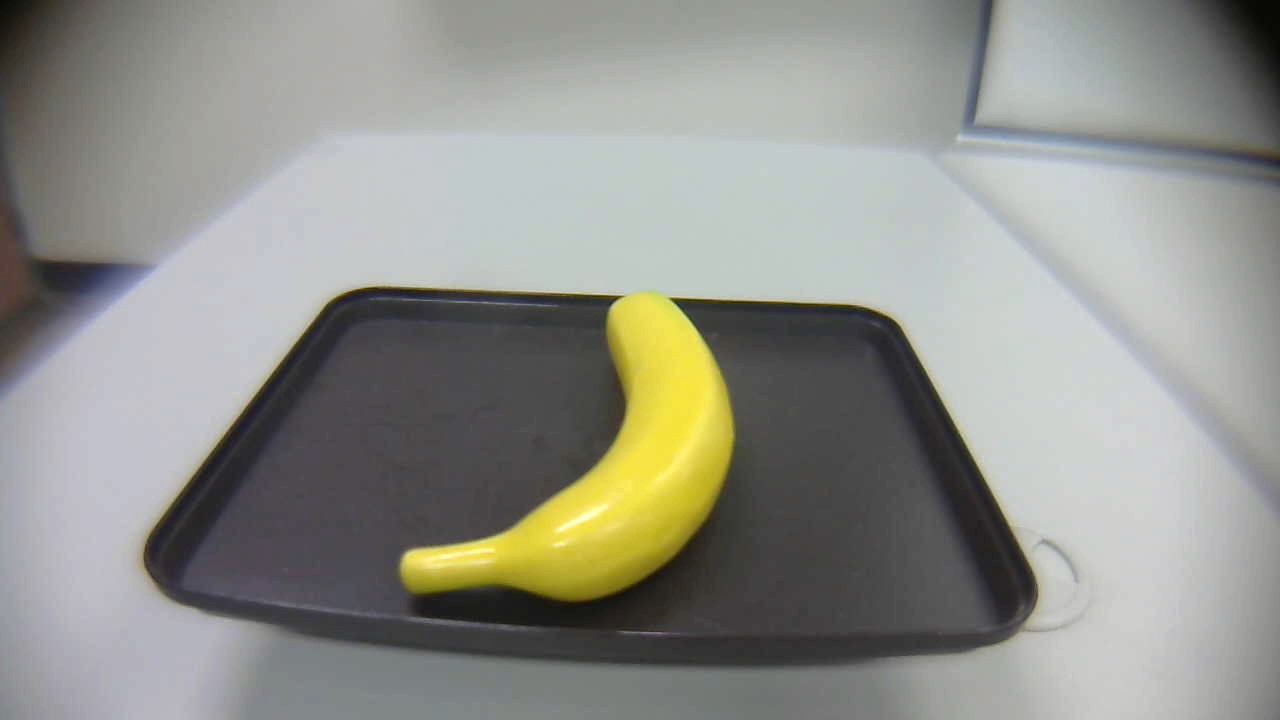banana: (396, 284, 746, 611)
